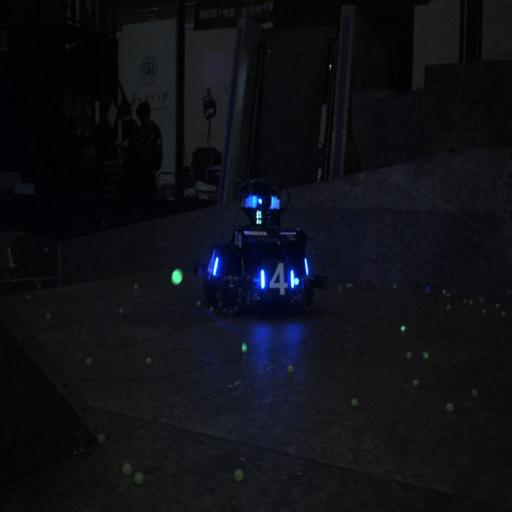target: (258, 253, 300, 301), (205, 242, 221, 287)
